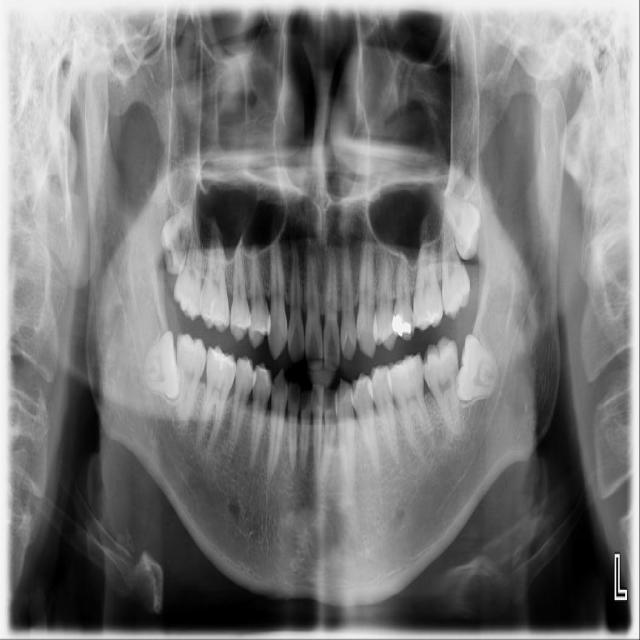Filling: (393, 306, 415, 340)
impacted tooth: (436, 186, 477, 263), (454, 335, 501, 402), (162, 196, 197, 275), (139, 331, 177, 398)
